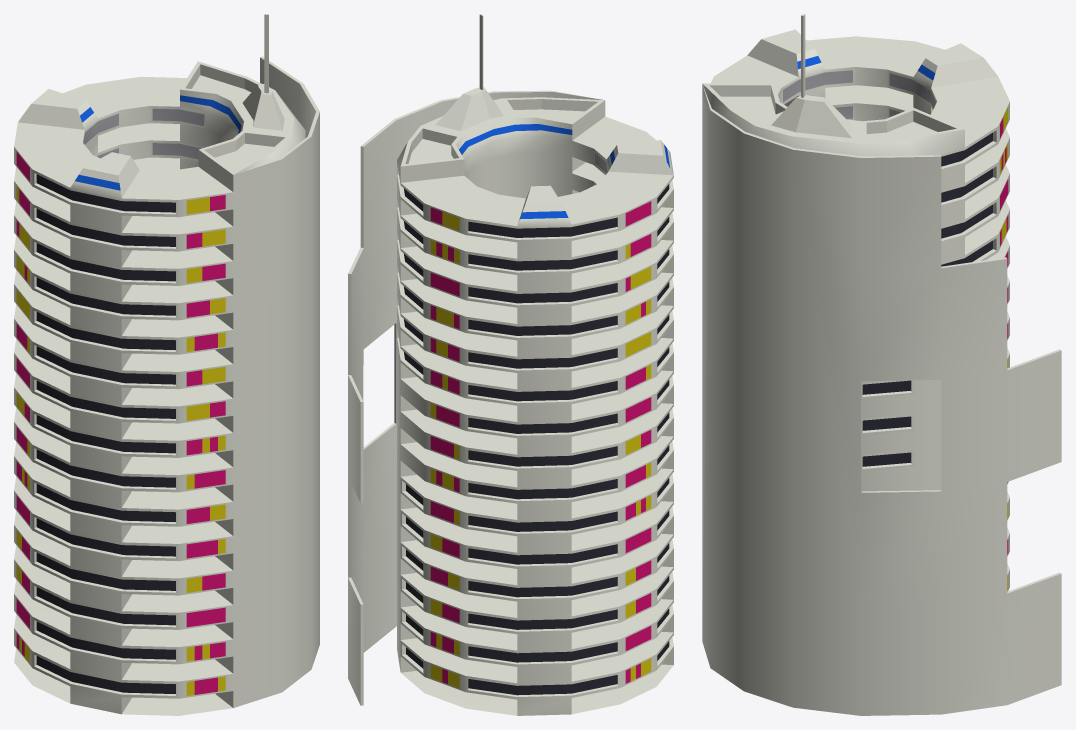
The model's file is TishBuidling.FBX.
3 renders of one model, left to right at view 1: azimuth 30°, elevation 25°; view 2: azimuth 150°, elevation 25°; view 3: azimuth 270°, elevation 25°, orthographic. The views are drawn at different scales.
Parts seen in each view (by area): view 1: TishBuilding; view 2: TishBuilding; view 3: TishBuilding.
Part boxes in pixels (bbox=[...]): TishBuilding: bbox=[14, 14, 319, 715]; TishBuilding: bbox=[348, 14, 673, 715]; TishBuilding: bbox=[702, 14, 1061, 715].
Bounding box in the file's own units: 215 × 479 × 234.
